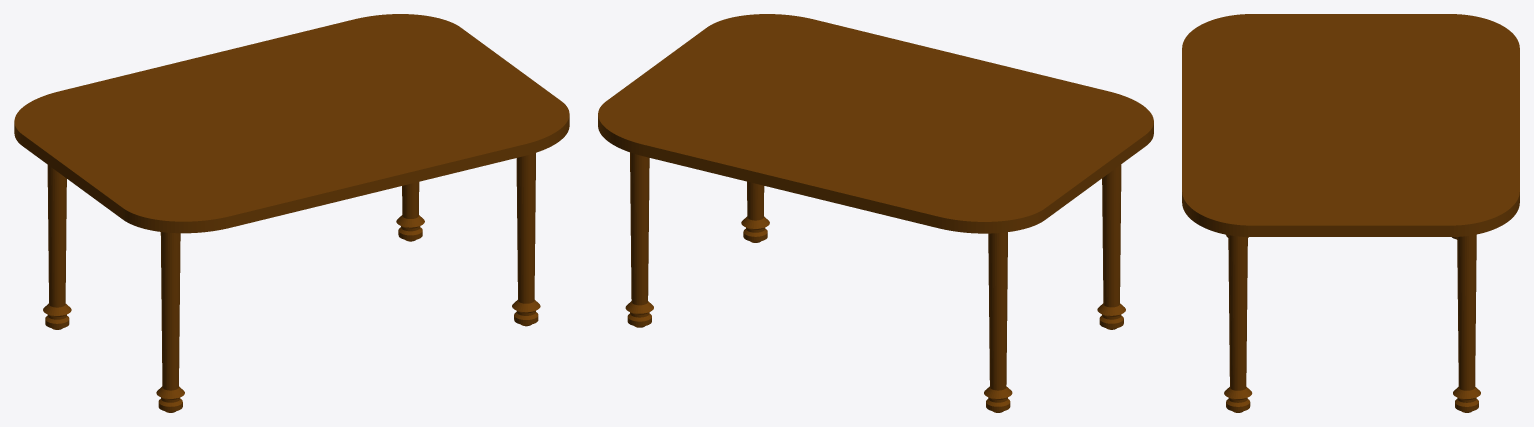
Rendered from Mesa.fbx.
3 views of the same model, side by side, from view 1: azimuth 30°, elevation 25°; view 2: azimuth 150°, elevation 25°; view 3: azimuth 270°, elevation 25° (orthographic).
Parts seen in each view (by area): view 1: Cube.035; view 2: Cube.035; view 3: Cube.035.
Boxes of the visible parts, x1,y1,x2,y2 form: Cube.035: (14, 14, 569, 412); Cube.035: (598, 14, 1153, 412); Cube.035: (1182, 14, 1519, 412).
Bounding box in the file's own units: 683 × 309 × 461.
